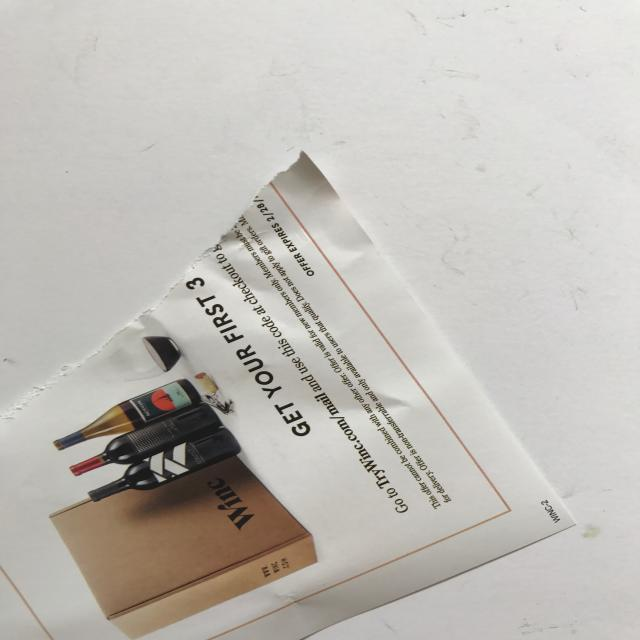paper: (2, 150, 580, 640)
